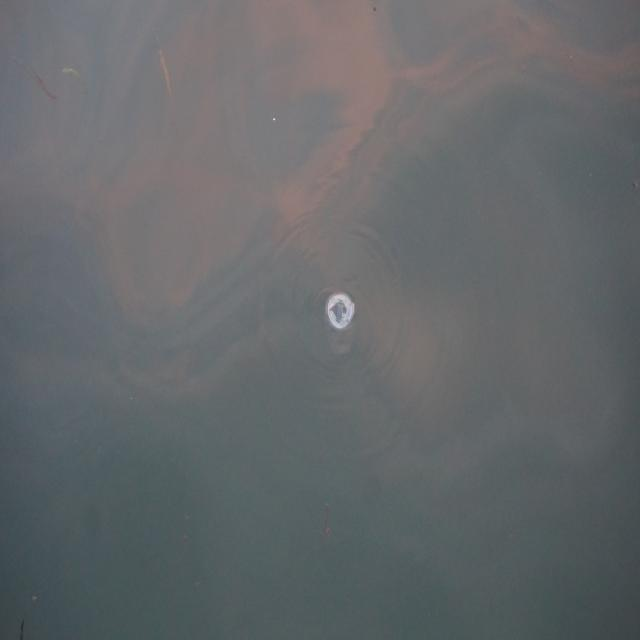Bungkus Minuman: (322, 290, 360, 352)
